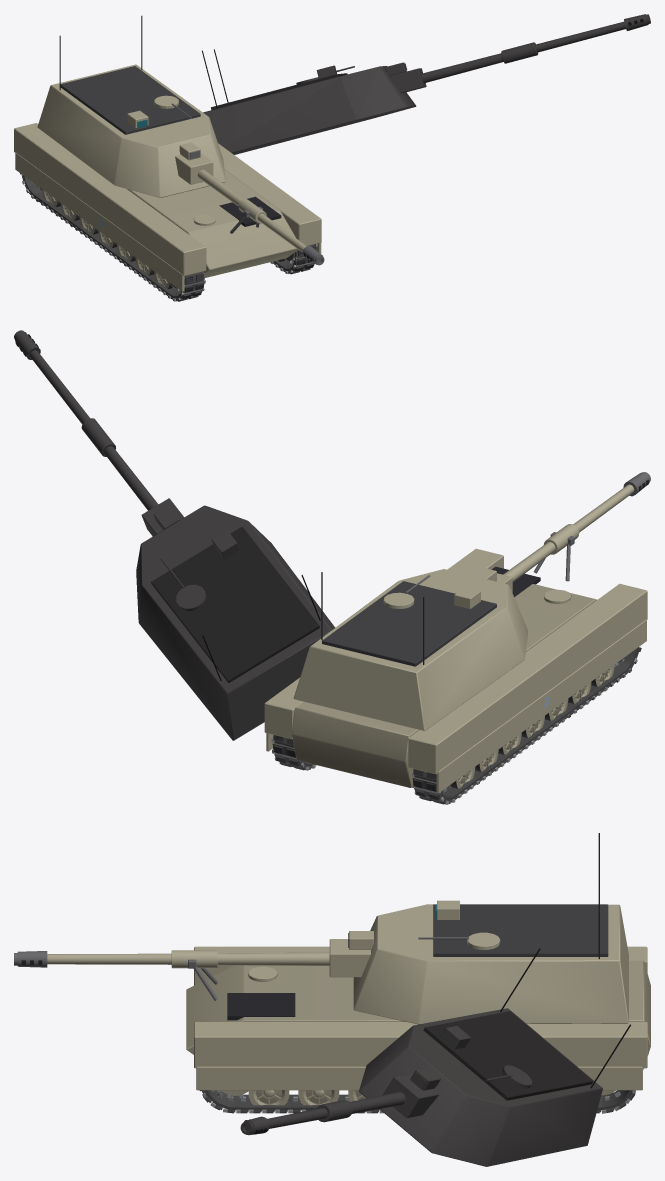
Rendered from artillery__pzh_2000.glb.
3 views of the same model, one above another, from view 1: azimuth 30°, elevation 25°; view 2: azimuth 150°, elevation 25°; view 3: azimuth 270°, elevation 25° (orthographic). The views are drawn at different scales.
Parts seen in each view (by area): view 1: Hull_Mesh, Turret_Mesh, Wreck, Gun_Mesh, Track_L_Mesh, Track_R_Mesh; view 2: Wreck, Hull_Mesh, Turret_Mesh, Track_L_Mesh, Gun_Mesh, Track_R_Mesh; view 3: Hull_Mesh, Turret_Mesh, Wreck, Gun_Mesh, Track_R_Mesh, Wheel_R6_Mesh, Wheel_R5_Mesh.
Part boxes in pixels (x1,y1,x2,y2): Hull_Mesh: (14,123,321,291); Turret_Mesh: (37,15,225,197); Wreck: (22,14,650,300); Gun_Mesh: (175,142,324,265); Track_L_Mesh: (20,173,205,301); Track_R_Mesh: (270,244,317,274); Wreck: (14,330,641,804); Hull_Mesh: (264,532,647,792); Turret_Mesh: (293,569,528,730); Track_L_Mesh: (412,648,638,804); Gun_Mesh: (471,472,650,592); Track_R_Mesh: (271,735,316,770); Hull_Mesh: (186,946,650,1090); Turret_Mesh: (353,833,628,1024); Wreck: (200,948,630,1166); Gun_Mesh: (14,931,373,977); Track_R_Mesh: (199,1090,635,1113); Wheel_R6_Mesh: (248,1090,289,1110); Wheel_R5_Mesh: (298,1090,339,1105).
Size of what is drawn, in the model's own units: 12.7 by 4.09 by 10.74.
